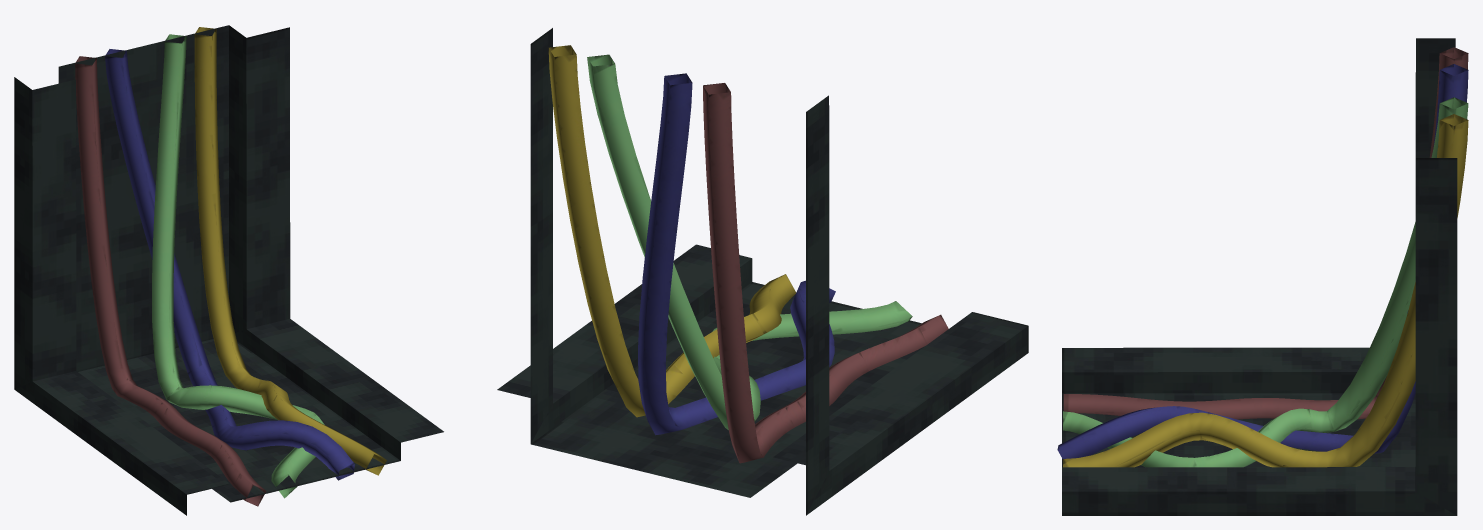
Rendered from wiresUp.fbx.
3 views of the same model, side by side, from view 1: azimuth 30°, elevation 25°; view 2: azimuth 150°, elevation 25°; view 3: azimuth 270°, elevation 25° (orthographic). The views are drawn at different scales.
Visible parts, largest first — view 1: wireUp; view 2: wireUp; view 3: wireUp.
Boxes of the visible parts, x1=… form: wireUp: x1=14, y1=25, x2=443, y2=515; wireUp: x1=497, y1=28, x2=1028, y2=515; wireUp: x1=1057, y1=38, x2=1468, y2=515.
Bounding box in the file's own units: 1.04 × 0.8617 × 1.03.
